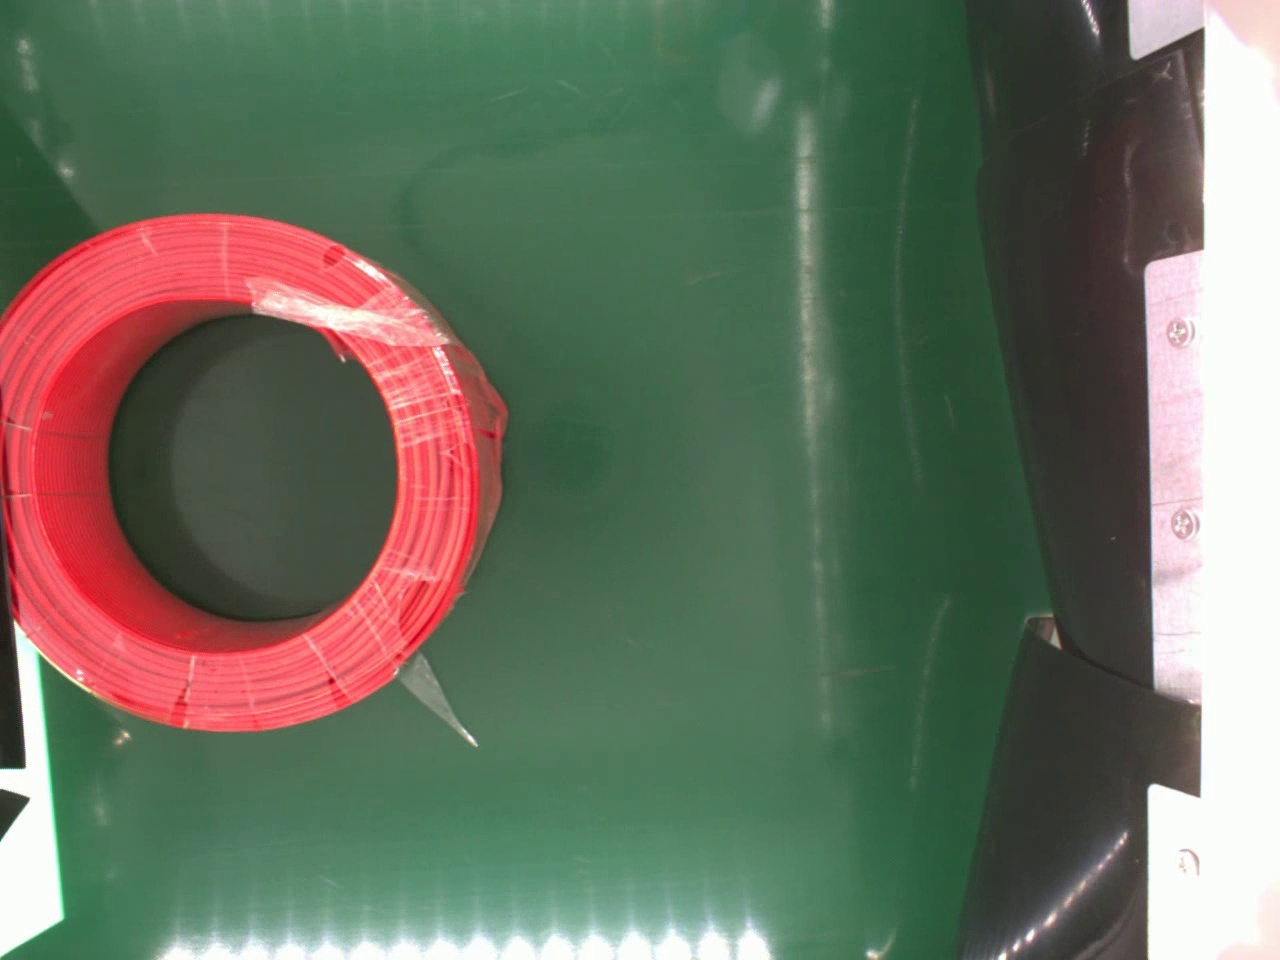red: (0, 211, 516, 727)
